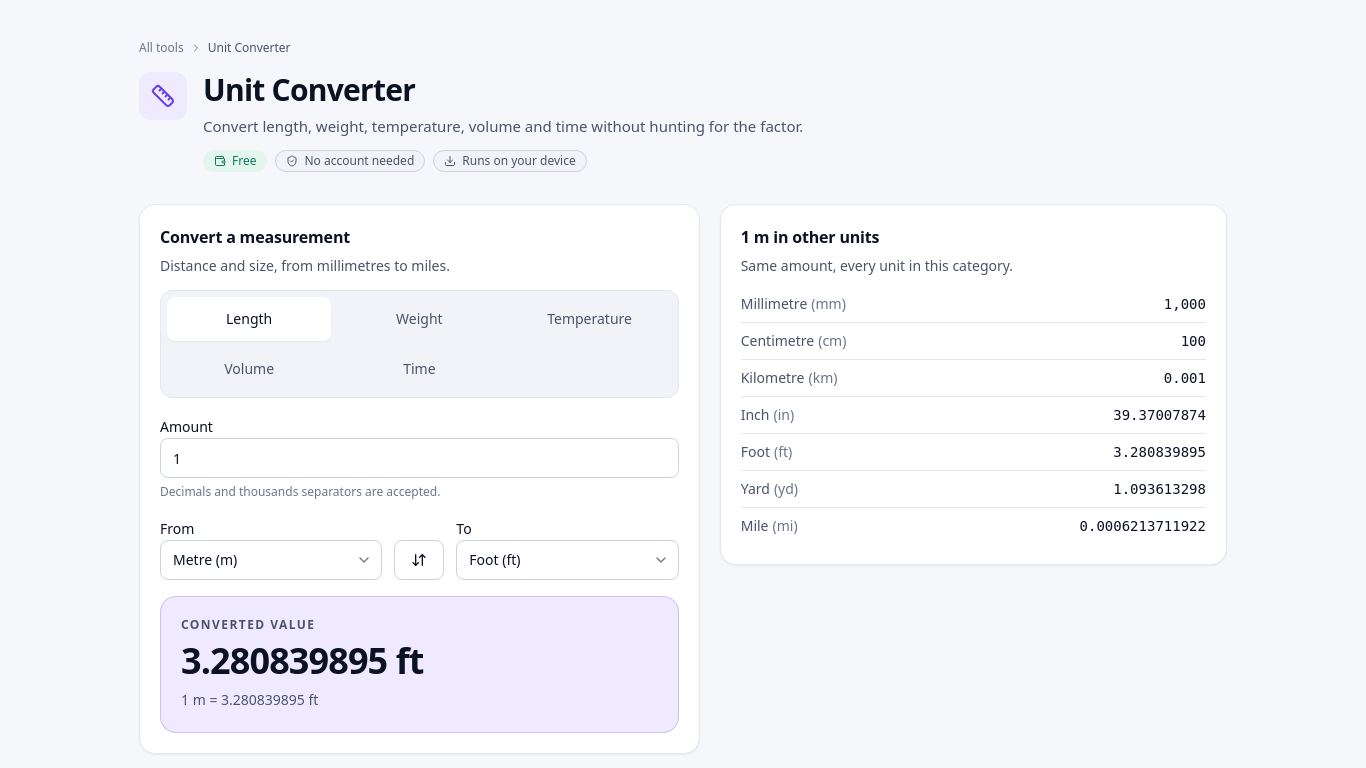
it: UnitConverterPage › swaps the units in both directions
The width and height of the screenshot is (1366, 768).
What coordinates should you click on to do the following:
click the button named "Swap the two units"
I would click on:
 (419, 560)
Its box is x1=394 y1=540 x2=444 y2=580.
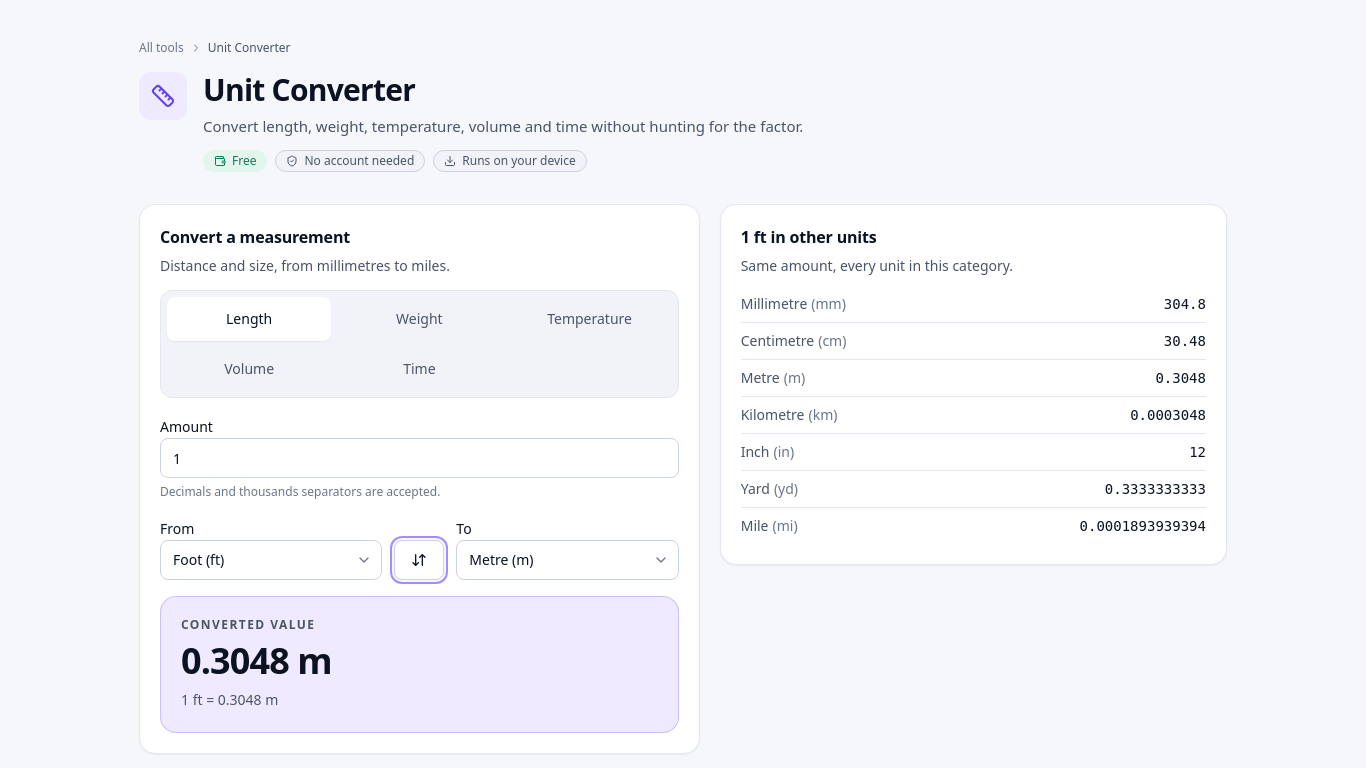
Check: the text "0.3048 m" is shown, box x1=181 y1=636 x2=332 y2=685
